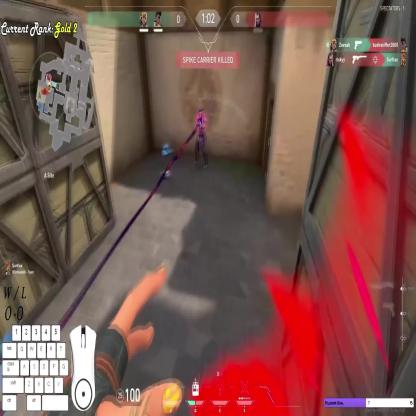enemy: (194, 108, 208, 171)
enemy_head: (198, 110, 203, 121)
